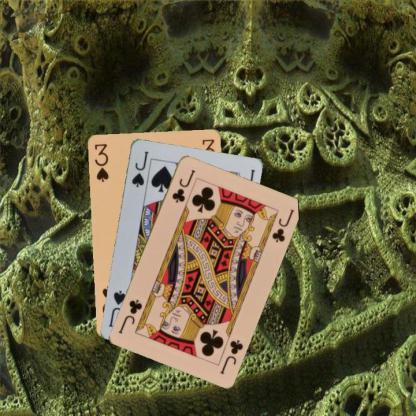3s: (91, 140, 110, 184)
Jc: (218, 336, 245, 376), (169, 166, 196, 204)
Js: (128, 148, 150, 188)
